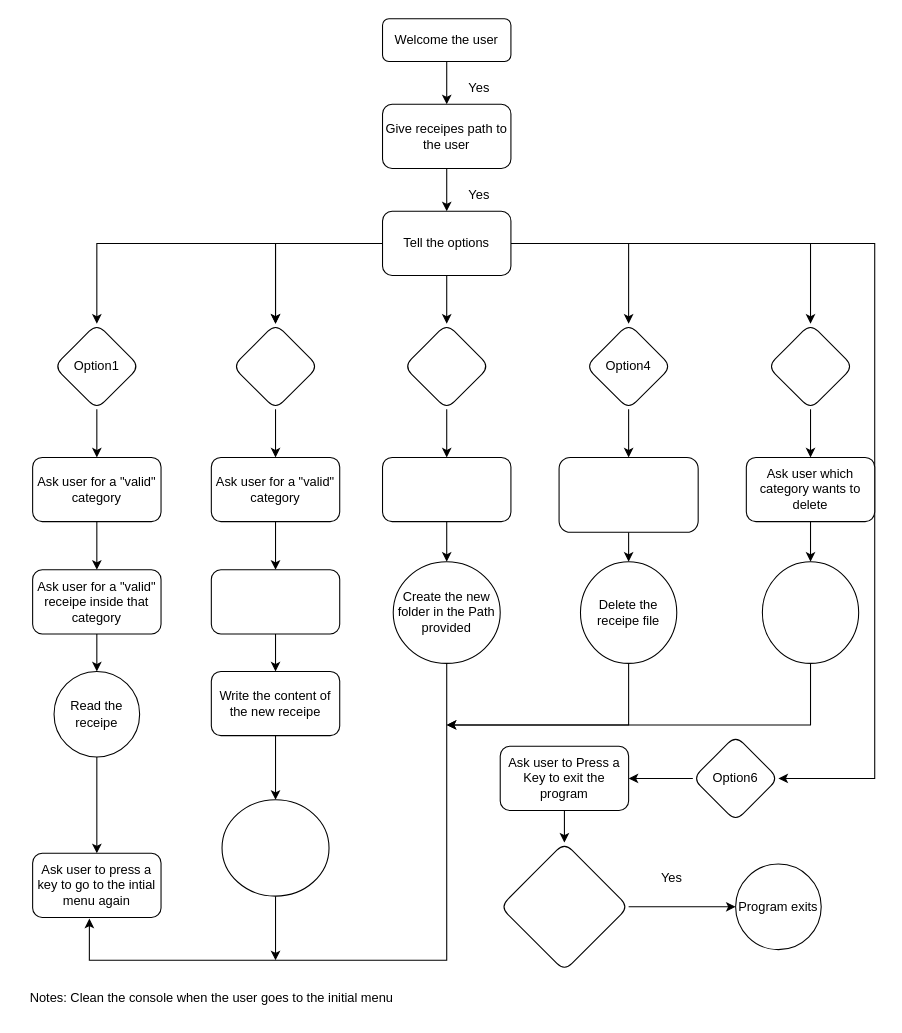
Image size: 902x1033. Some labels were removed from this diagram. Here are the shapes that lost their labels. From the top down, the centre of each, then its label:
point (275, 366): Option2
point (446, 366): Option3
point (810, 366): Option5
point (446, 489): Ask user to create a NEW category
point (628, 494): Same as Option1, but asking which receipe the user wants to delete
point (275, 601): Write the name of the new receipe
point (810, 612): Delete the whole folder
point (275, 847): Code creates the new file with the content
point (564, 906): User Presses the key
